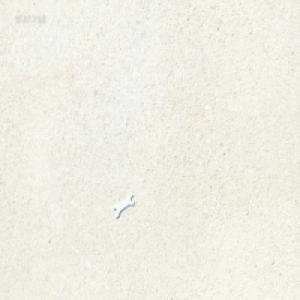Wrench: (113, 193, 134, 219)
